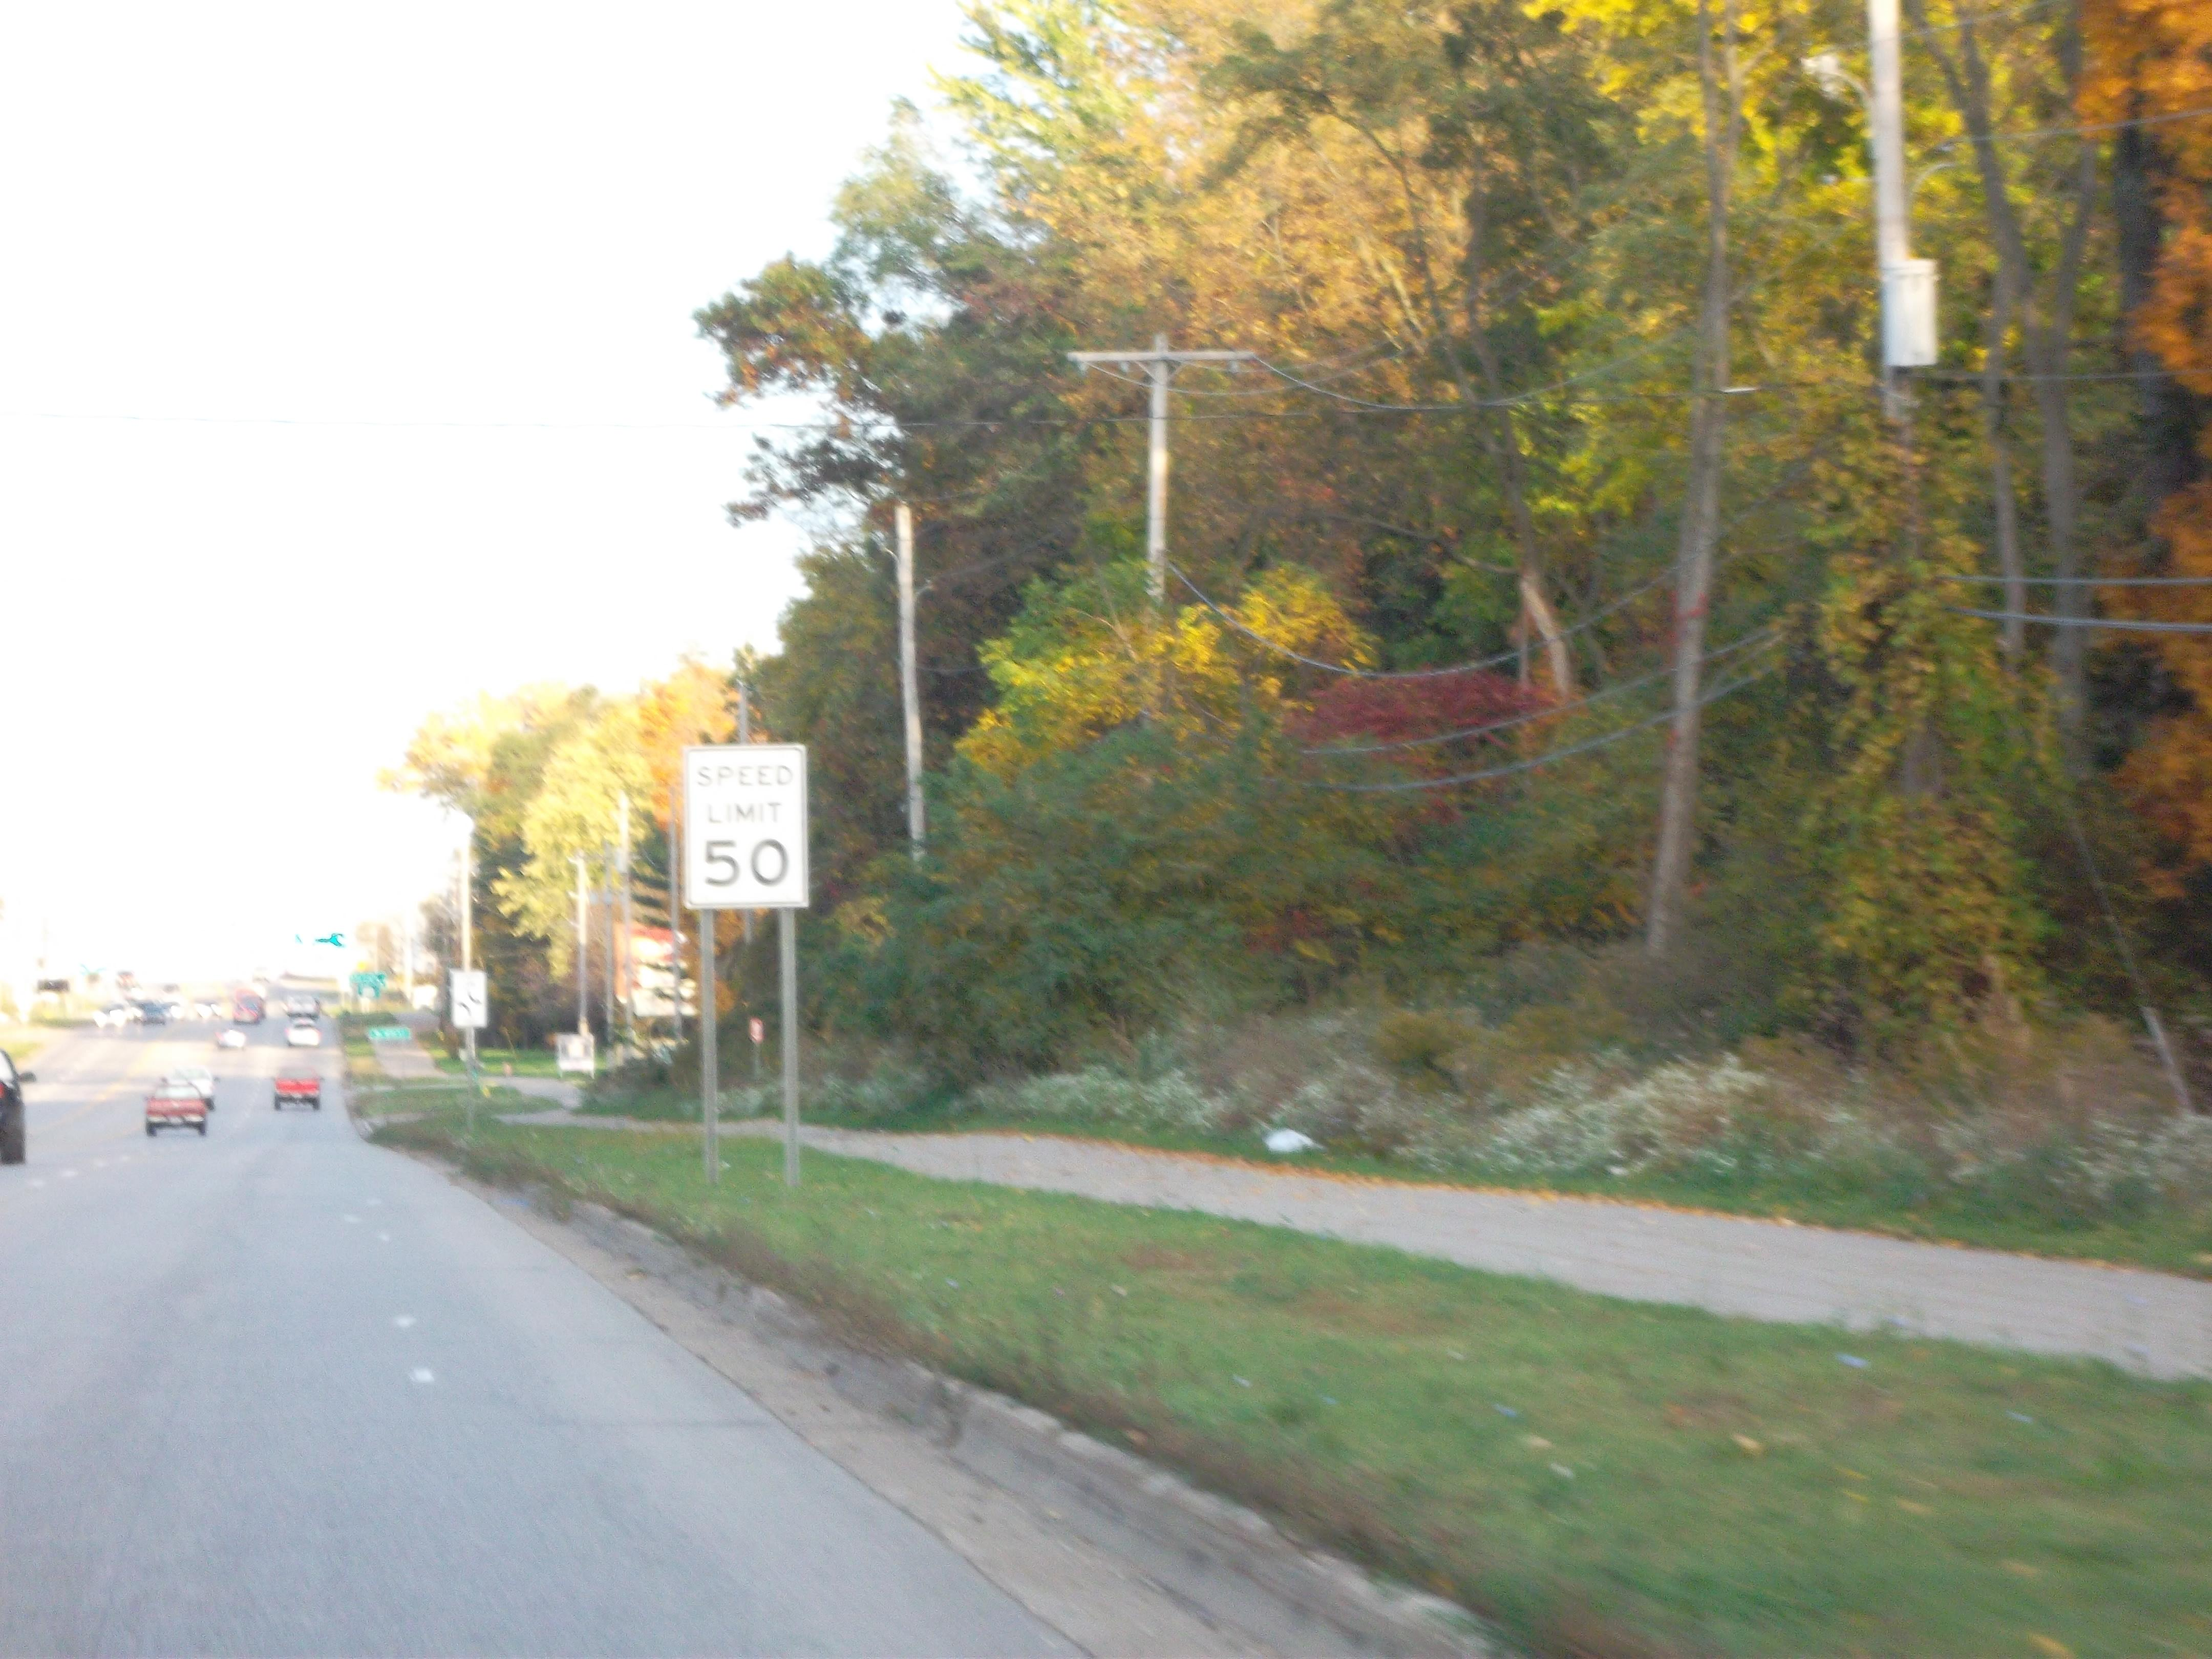regulatory: (678, 741, 815, 911), (451, 969, 489, 1030)
